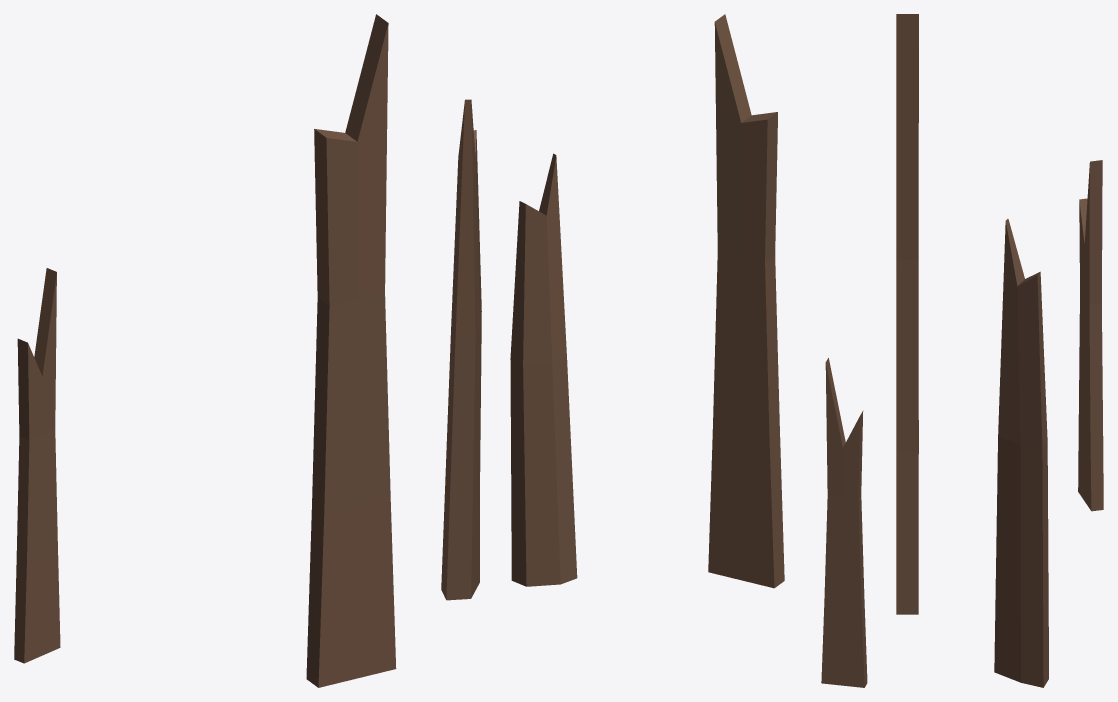
The model's file is tree.04.glb.
3 renders of one model, left to right at view 1: azimuth 30°, elevation 25°; view 2: azimuth 150°, elevation 25°; view 3: azimuth 270°, elevation 25°, orthographic. The views are drawn at different scales.
Parts seen in each view (by area): view 1: Plane.006; view 2: Plane.006; view 3: Plane.006.
Part boxes in pixels (x1,y1,x2,y2): Plane.006: [14, 14, 481, 687]; Plane.006: [510, 14, 867, 687]; Plane.006: [896, 14, 1103, 687].
Bounding box in the file's own units: 0.2007 × 0.2814 × 0.0887.
1 material, 1 textured.
